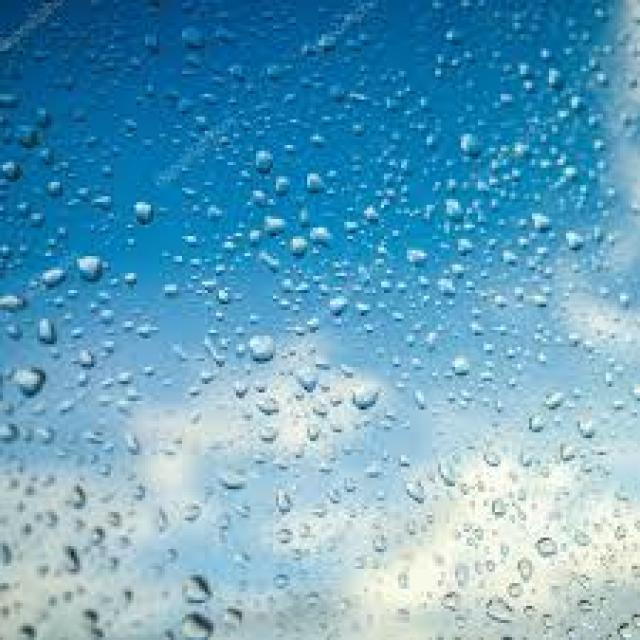raindrop: (178, 550, 222, 612), (1, 345, 48, 403), (68, 236, 115, 294), (31, 298, 73, 360), (123, 182, 163, 243), (36, 256, 82, 304), (448, 128, 501, 168), (342, 372, 388, 418), (162, 608, 227, 640), (297, 161, 340, 204), (243, 324, 284, 369), (290, 356, 328, 400), (248, 136, 281, 182)
